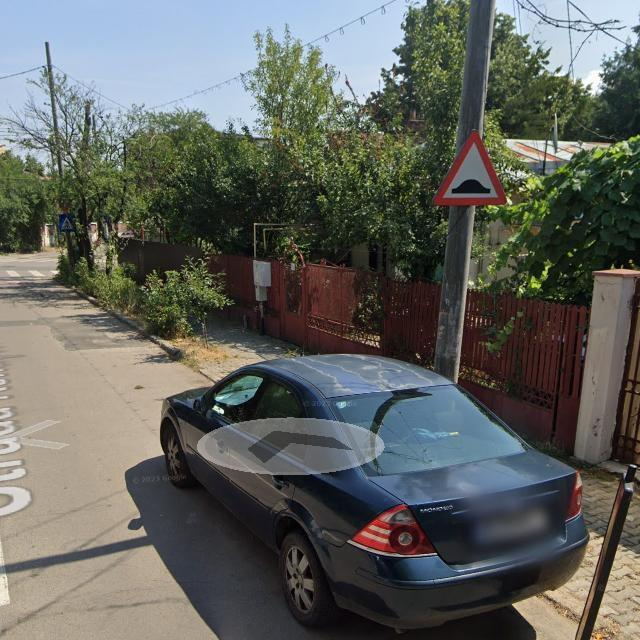info_crosswalk: (59, 215, 74, 232)
